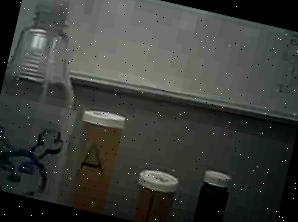Bottle A: (64, 104, 132, 216)
Bottle B: (126, 162, 185, 222)
Bottle C: (186, 163, 249, 222)
hazard: (0, 0, 110, 204)
